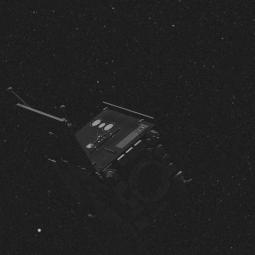proba_2: (6, 89, 194, 240)
